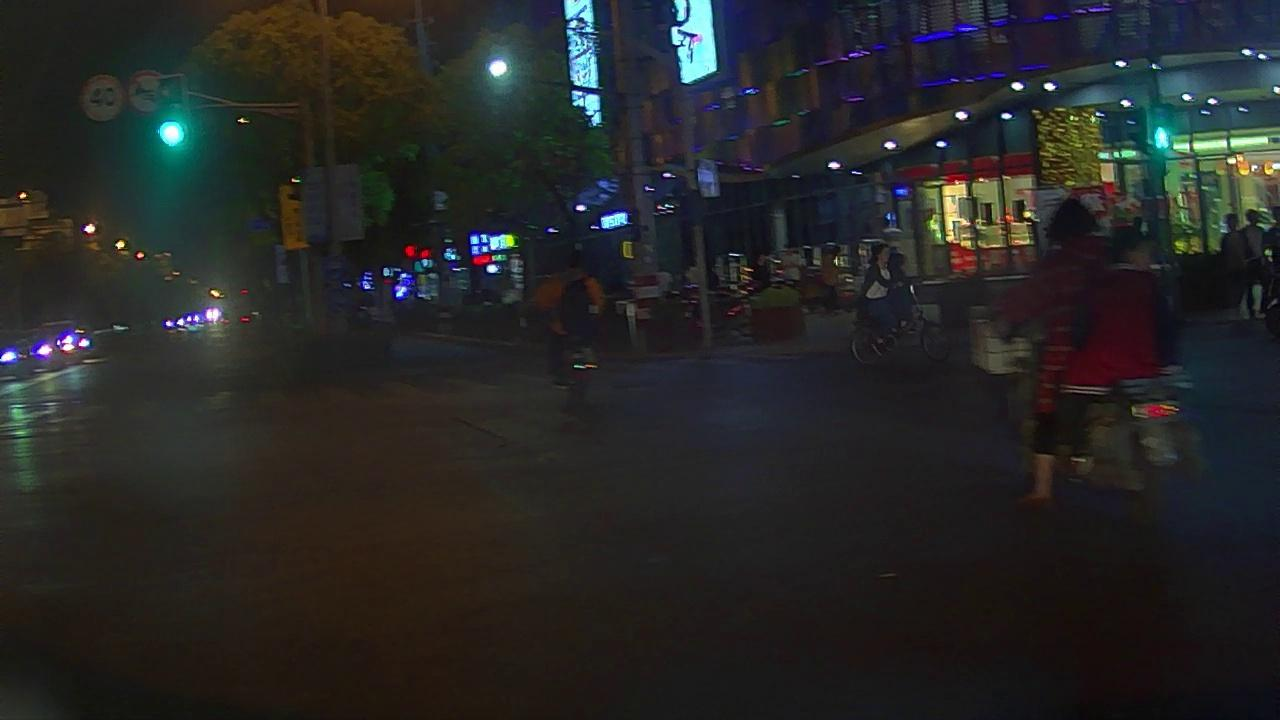traffic_light: (152, 77, 191, 150)
